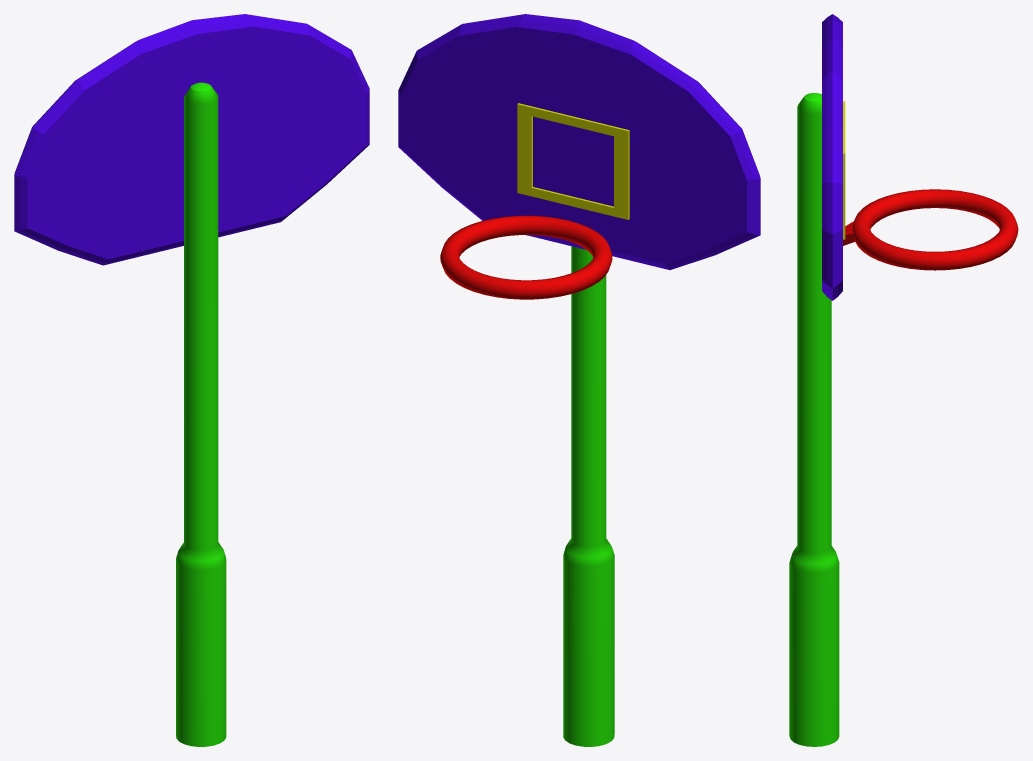
File: BasketballRingBeter.fbx
3 renders of one model, left to right at view 1: azimuth 30°, elevation 25°; view 2: azimuth 150°, elevation 25°; view 3: azimuth 270°, elevation 25°, orthographic. The views are drawn at different scales.
Parts seen in each view (by area): view 1: pCube1, pCylinder1; view 2: pCube1, pCylinder1, pCylinder2, pCube2; view 3: pCylinder1, pCylinder2, pCube1, pCube2.
Part boxes in pixels (left/top/right/bottom): pCube1: left=14, top=14, right=369, bottom=265; pCylinder1: left=176, top=82, right=226, bottom=746; pCube1: left=398, top=14, right=760, bottom=269; pCylinder1: left=563, top=246, right=614, bottom=746; pCylinder2: left=440, top=215, right=612, bottom=299; pCube2: left=517, top=103, right=629, bottom=219; pCylinder1: left=789, top=93, right=839, bottom=746; pCylinder2: left=852, top=189, right=1018, bottom=270; pCube1: left=822, top=14, right=842, bottom=300; pCube2: left=843, top=101, right=845, bottom=239.
Size of the model in its own units: 6.18 by 11.79 by 3.5.
